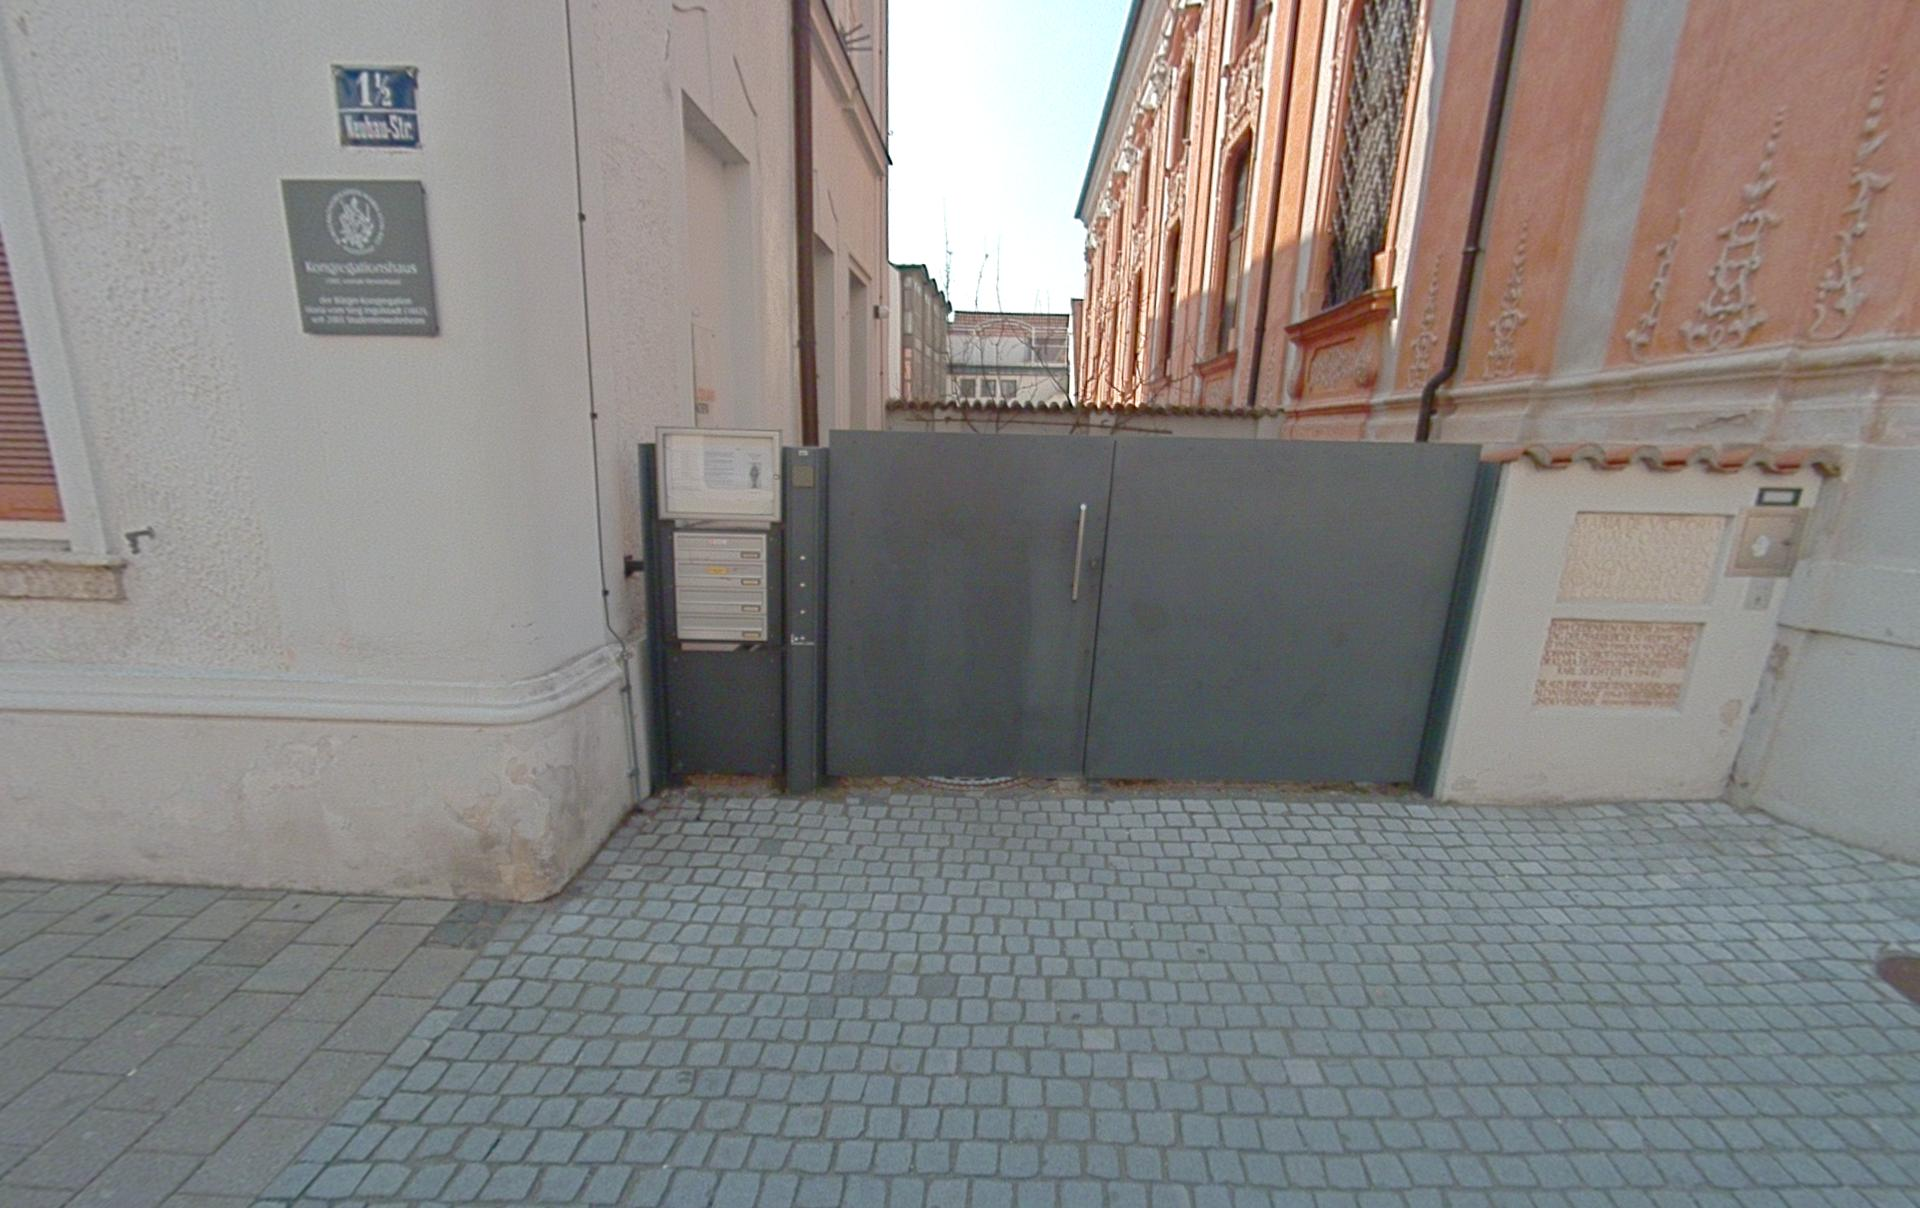traffic sign: (331, 63, 423, 150)
